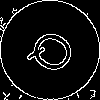Q: (25, 25, 86, 82)
